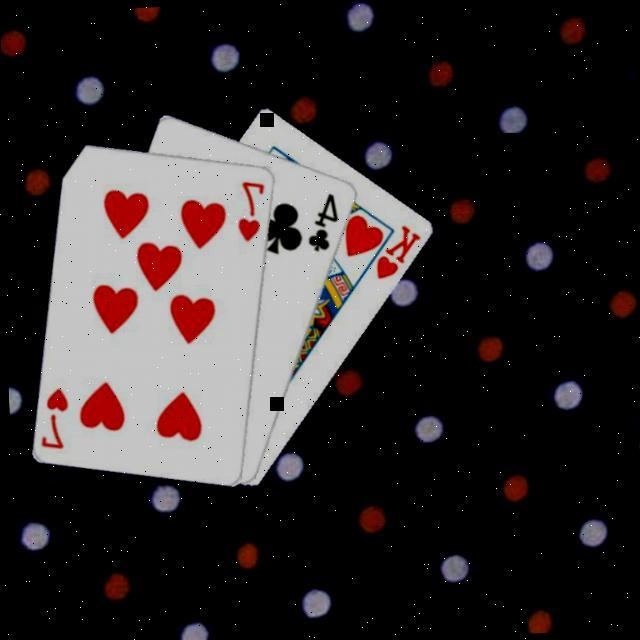4C: (301, 187, 341, 252)
7H: (231, 175, 268, 243), (33, 382, 70, 450)
KH: (369, 219, 424, 281)
